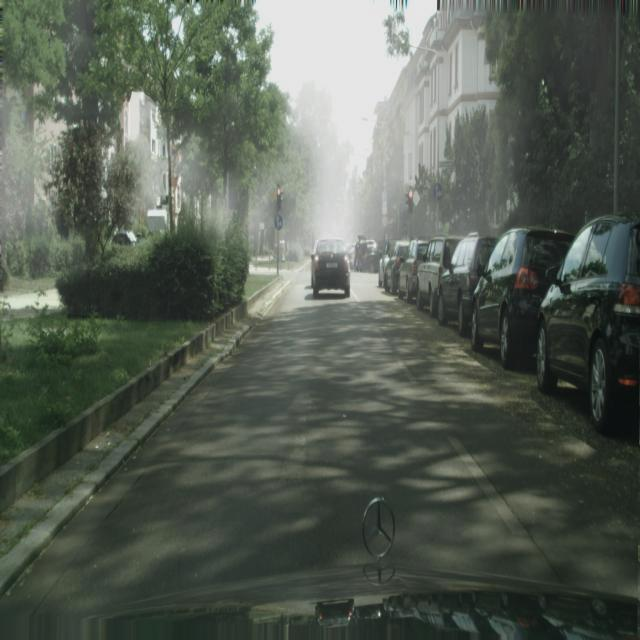person: (535, 212, 640, 434), (470, 225, 574, 369), (436, 234, 498, 336), (416, 238, 455, 314), (311, 236, 350, 298), (398, 238, 429, 302), (383, 241, 409, 294), (357, 239, 381, 272)
